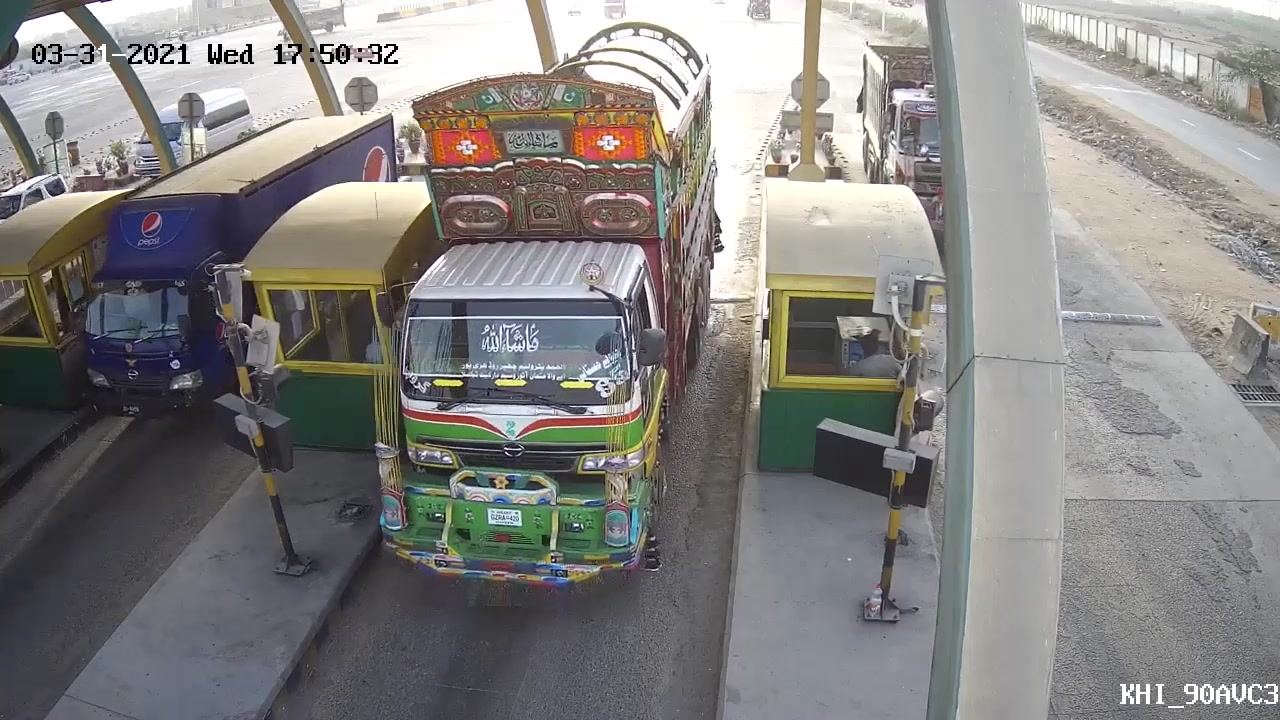F5: (356, 72, 687, 596)
